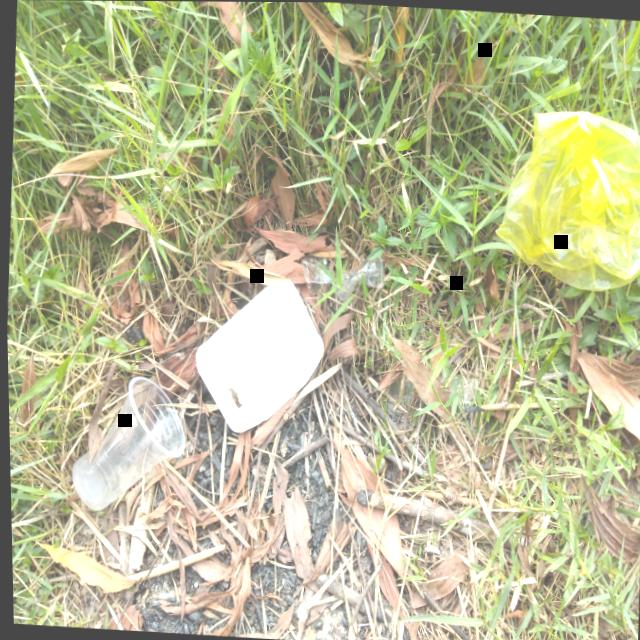Disposable plastic cup: (69, 376, 182, 510)
Meal carton: (193, 280, 321, 433)
Plastic film: (330, 257, 382, 300), (299, 250, 330, 294)
Single-use carrier bag: (494, 111, 640, 290)
